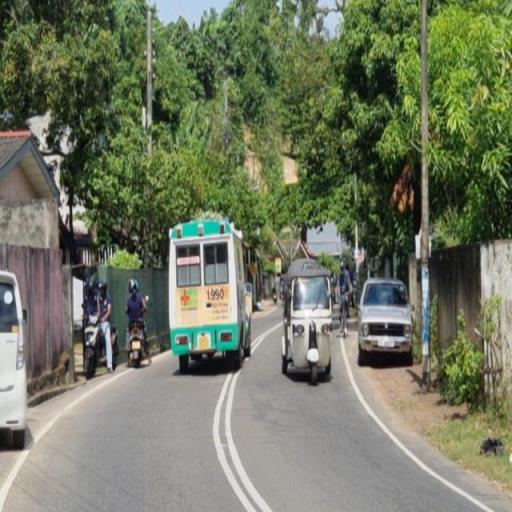double_white_line: (212, 377, 273, 512)
